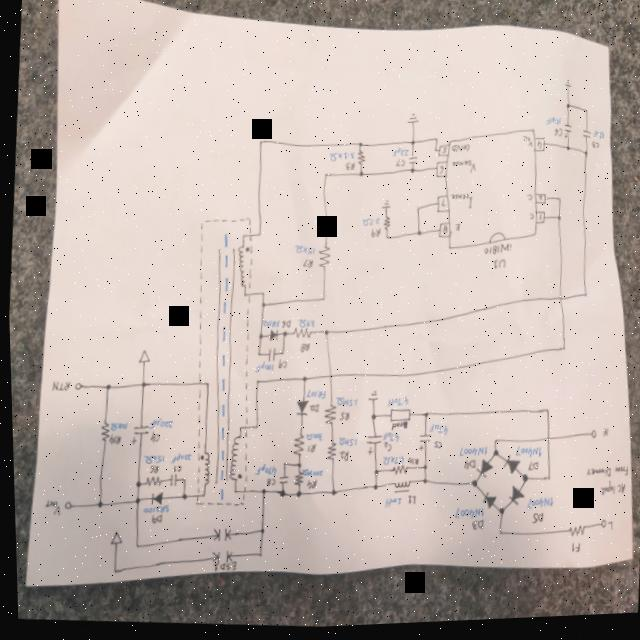capacitor: (127, 424, 147, 447), (362, 437, 379, 459), (415, 436, 428, 456), (165, 473, 175, 490), (562, 128, 571, 144), (265, 349, 274, 365), (275, 476, 286, 488), (580, 135, 591, 145), (407, 160, 417, 169)
crossover: (555, 300, 562, 307), (542, 440, 548, 447), (326, 376, 330, 382)
diode: (499, 459, 519, 480), (472, 462, 491, 483), (504, 489, 522, 511), (478, 495, 494, 514), (292, 401, 306, 419), (147, 492, 160, 507), (267, 330, 276, 344)
ground: (405, 115, 420, 130), (106, 531, 120, 547), (135, 350, 148, 366), (364, 393, 375, 405), (379, 203, 389, 213), (564, 85, 571, 93)
inductor: (227, 245, 248, 291), (220, 437, 240, 485), (198, 451, 218, 488), (386, 411, 408, 427), (390, 482, 408, 498)
junction: (101, 383, 110, 392), (274, 492, 283, 501), (488, 453, 497, 462), (93, 501, 101, 510), (518, 478, 525, 488), (495, 511, 502, 520), (369, 486, 376, 495), (137, 381, 144, 390), (467, 483, 474, 492), (414, 233, 421, 241), (327, 491, 334, 499), (178, 494, 185, 502), (581, 154, 588, 162), (257, 490, 264, 498), (131, 481, 138, 489), (131, 497, 138, 505), (580, 297, 587, 304), (408, 170, 415, 177), (321, 332, 327, 340), (256, 530, 262, 538), (237, 500, 243, 508), (257, 141, 263, 148), (558, 350, 564, 357), (131, 544, 137, 551), (542, 412, 548, 419), (543, 480, 549, 487), (292, 493, 298, 500), (256, 334, 261, 342), (564, 150, 570, 156), (494, 534, 500, 540), (489, 443, 495, 449), (367, 417, 373, 423), (293, 465, 299, 471), (199, 221, 205, 227), (319, 298, 324, 305), (245, 217, 250, 224), (421, 415, 426, 422), (191, 500, 196, 507), (565, 108, 570, 114), (357, 174, 362, 180), (109, 569, 114, 575), (555, 201, 560, 207), (322, 175, 327, 181), (280, 333, 285, 339), (300, 379, 305, 385), (255, 553, 259, 560), (203, 383, 207, 390), (420, 481, 424, 487), (556, 220, 560, 226), (256, 234, 260, 240), (584, 113, 588, 119), (414, 210, 418, 216), (410, 143, 414, 149), (259, 293, 263, 299), (259, 304, 263, 310), (240, 235, 244, 241), (383, 238, 387, 244), (419, 468, 423, 474), (230, 490, 234, 496), (253, 381, 257, 386), (252, 427, 256, 432), (280, 464, 284, 469), (254, 353, 258, 358), (241, 294, 245, 299), (199, 495, 203, 500), (179, 478, 183, 483), (432, 152, 436, 157), (357, 145, 361, 150), (279, 352, 282, 358), (236, 428, 240, 432), (433, 141, 437, 145)
resistor: (315, 247, 331, 273), (289, 435, 303, 459), (320, 406, 335, 428), (289, 328, 310, 342), (563, 529, 582, 543), (96, 422, 108, 444), (323, 444, 335, 464), (388, 466, 405, 480), (142, 476, 159, 489), (290, 473, 301, 490), (355, 152, 365, 169), (380, 219, 390, 235)
terminal: (71, 382, 81, 392), (60, 501, 69, 511), (586, 434, 594, 444), (596, 524, 603, 534)
text: (582, 468, 626, 487), (449, 509, 482, 526), (596, 486, 624, 504), (511, 448, 540, 465), (523, 500, 551, 517), (447, 195, 472, 214), (449, 162, 476, 179), (456, 448, 485, 463), (482, 245, 511, 260), (145, 417, 171, 433), (208, 560, 234, 575), (40, 499, 59, 519), (251, 464, 274, 480), (139, 504, 167, 517), (327, 154, 354, 167), (332, 397, 355, 412), (166, 452, 189, 467), (426, 425, 447, 441), (291, 246, 315, 260), (384, 399, 406, 413), (378, 457, 401, 470), (139, 454, 162, 467), (334, 438, 355, 452), (251, 362, 272, 376), (302, 391, 324, 404), (49, 380, 68, 394), (381, 499, 399, 513), (106, 421, 126, 433), (295, 320, 314, 332), (298, 470, 320, 480), (359, 220, 379, 231), (387, 423, 405, 435), (390, 150, 408, 162), (450, 147, 469, 158), (489, 262, 505, 275), (379, 435, 396, 447), (302, 434, 320, 445), (467, 522, 481, 536), (260, 321, 278, 331), (544, 121, 561, 131), (460, 462, 473, 475), (106, 433, 119, 446), (527, 516, 540, 529), (523, 465, 537, 477), (405, 459, 418, 471), (520, 140, 532, 153), (591, 134, 604, 146), (335, 413, 347, 425), (300, 260, 312, 272), (403, 497, 414, 510), (335, 452, 346, 465), (303, 480, 314, 493), (147, 432, 158, 445), (566, 546, 577, 559), (262, 478, 273, 490), (368, 230, 379, 242), (297, 344, 308, 356), (145, 465, 157, 476), (148, 514, 159, 526), (393, 161, 404, 172), (343, 164, 354, 175), (303, 445, 314, 456), (306, 406, 317, 416), (276, 361, 285, 373), (379, 444, 388, 456), (169, 465, 179, 475), (589, 145, 599, 155), (523, 197, 532, 208), (279, 322, 290, 331), (429, 444, 440, 453), (553, 132, 562, 143), (439, 229, 446, 239), (603, 526, 610, 536), (438, 201, 445, 211), (599, 433, 606, 443), (526, 217, 534, 225), (437, 168, 443, 178), (535, 144, 541, 154), (452, 227, 459, 235), (440, 151, 446, 158), (536, 218, 541, 226), (536, 200, 542, 206), (371, 472, 375, 479)
